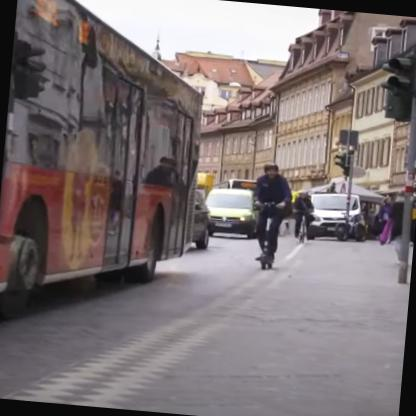helmet: (262, 156, 284, 183)
human: (247, 156, 293, 250)
kickboard: (256, 251, 282, 272)
